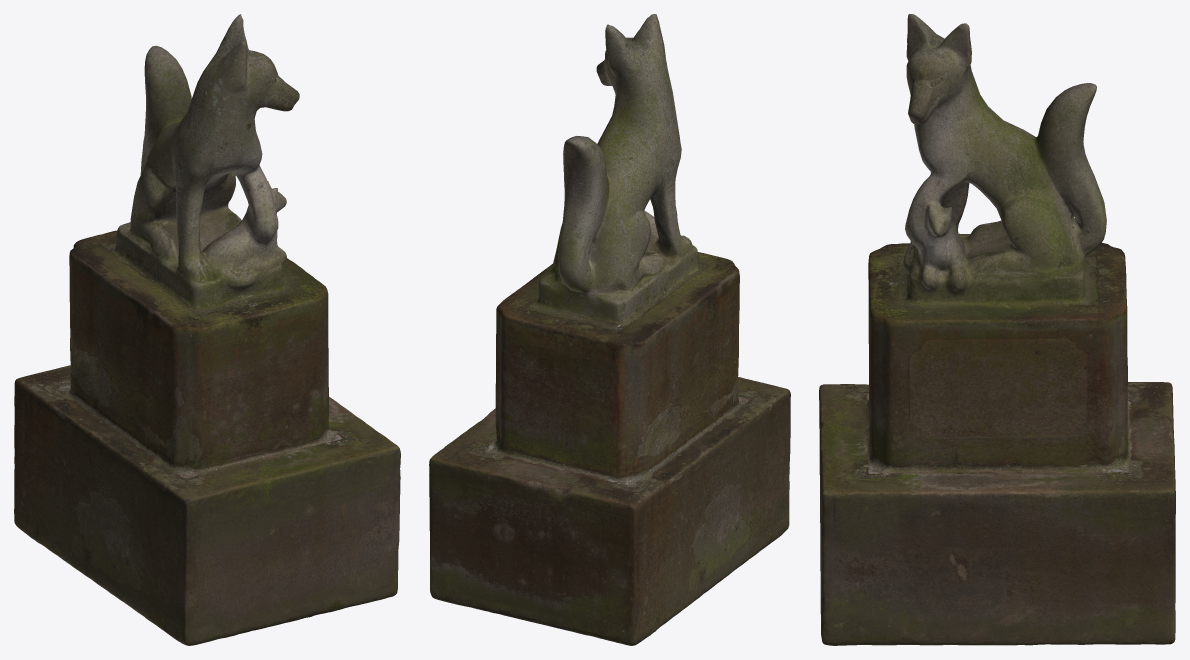
The model's file is Foxs.obj.
The picture shows the model from 3 angles, left to right: view 1: azimuth 30°, elevation 25°; view 2: azimuth 150°, elevation 25°; view 3: azimuth 270°, elevation 25°; orthographic projection. The views are drawn at different scales.
Parts seen in each view (by area): view 1: Foxs_Aset_historical_feudal_japan_M_ve1haetqx_LOD0; view 2: Foxs_Aset_historical_feudal_japan_M_ve1haetqx_LOD0; view 3: Foxs_Aset_historical_feudal_japan_M_ve1haetqx_LOD0.
Boxes of the visible parts, left/top/right/bottom form: Foxs_Aset_historical_feudal_japan_M_ve1haetqx_LOD0: left=14, top=14, right=400, bottom=645; Foxs_Aset_historical_feudal_japan_M_ve1haetqx_LOD0: left=429, top=14, right=790, bottom=645; Foxs_Aset_historical_feudal_japan_M_ve1haetqx_LOD0: left=819, top=14, right=1175, bottom=645.
Bounding box in the file's own units: 3.21 × 7.66 × 4.28.
Materials: 1 (1 with a texture image).
